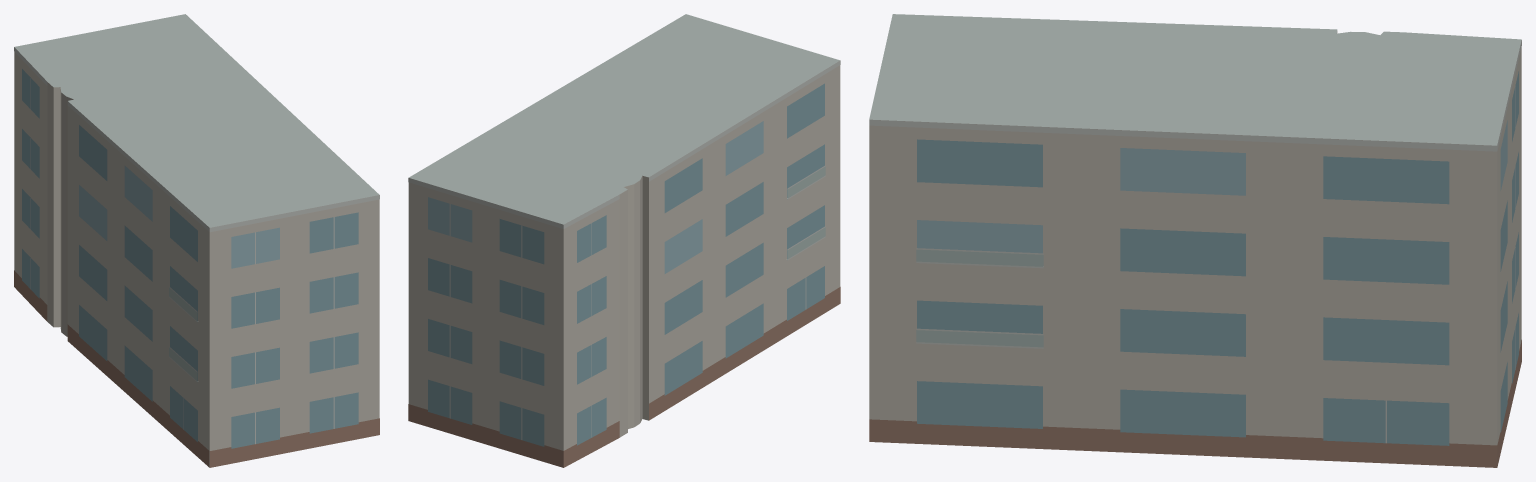
Rendered from survey-upis-32613553.glb.
The picture shows the model from 3 angles, left to right: view 1: azimuth 30°, elevation 25°; view 2: azimuth 150°, elevation 25°; view 3: azimuth 270°, elevation 25°; orthographic projection. The views are drawn at different scales.
Parts seen in each view (by area): view 1: survey-upis-32613553.tmp; view 2: survey-upis-32613553.tmp; view 3: survey-upis-32613553.tmp.
Boxes of the visible parts, x1=… form: survey-upis-32613553.tmp: x1=14, y1=14, x2=379, y2=467; survey-upis-32613553.tmp: x1=408, y1=14, x2=840, y2=467; survey-upis-32613553.tmp: x1=869, y1=14, x2=1521, y2=467.
Size of the model in its own units: 11.58 by 13.2 by 24.24.
